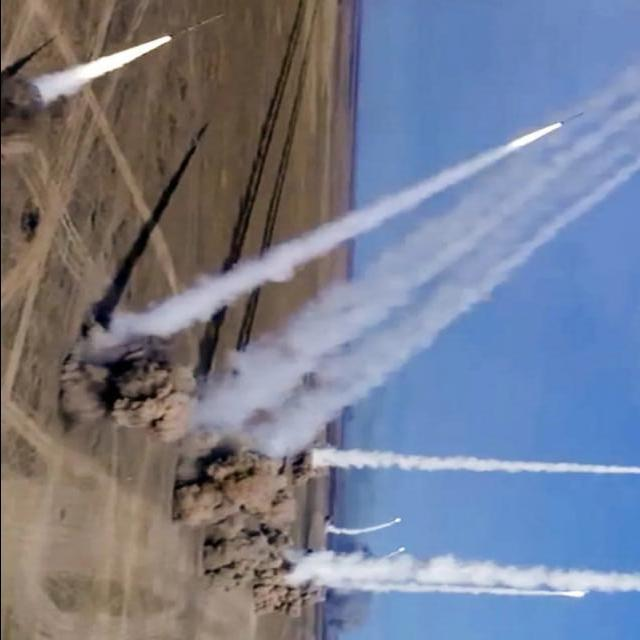Missile: (158, 9, 234, 43), (554, 108, 589, 132)
